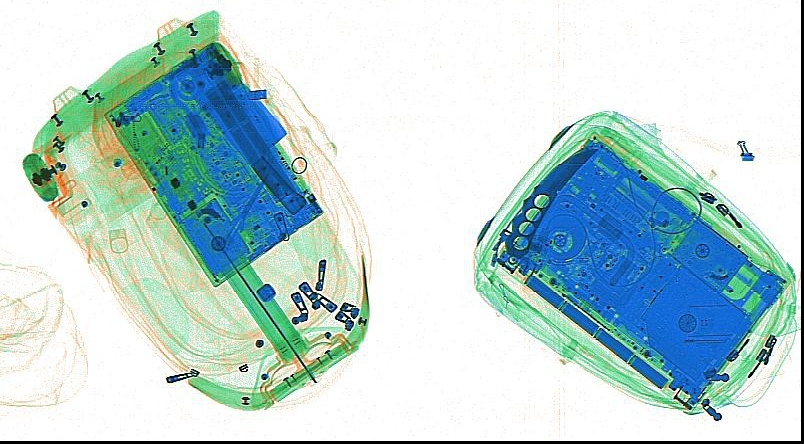knife: (175, 45, 306, 213), (504, 147, 598, 258)
scissors: (208, 173, 266, 254)
